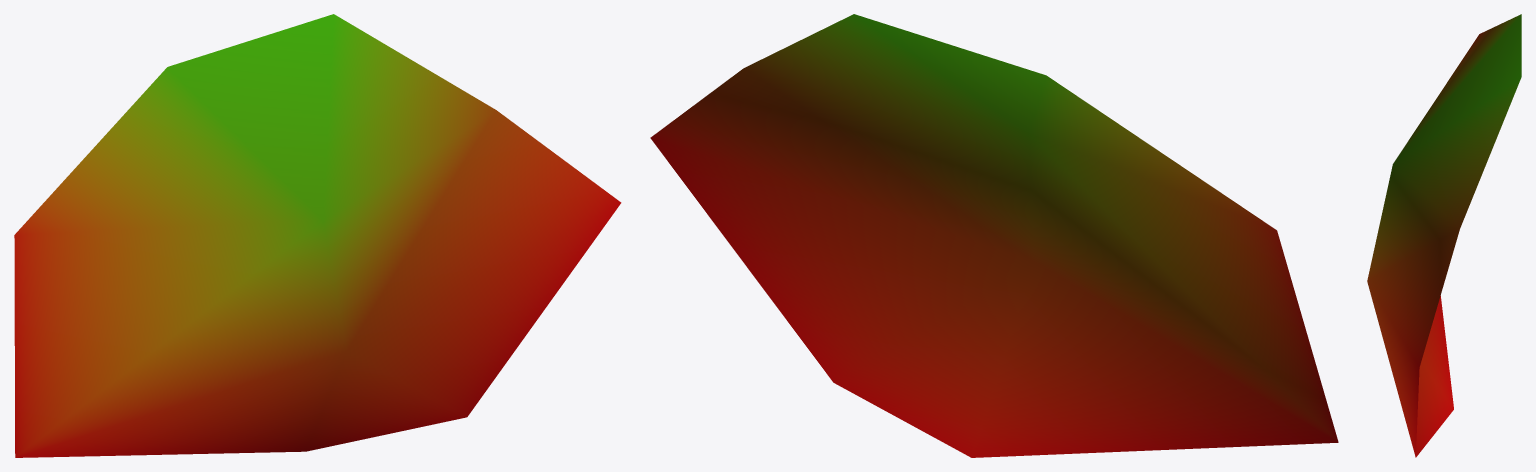
The model's file is Var14_LOD6.fbx.
The picture shows the model from 3 angles, left to right: view 1: azimuth 30°, elevation 25°; view 2: azimuth 150°, elevation 25°; view 3: azimuth 270°, elevation 25°; orthographic projection. The views are drawn at different scales.
Parts seen in each view (by area): view 1: _uvdk_Var14_LOD6; view 2: _uvdk_Var14_LOD6; view 3: _uvdk_Var14_LOD6.
Boxes of the visible parts, x1,y1,x2,y2 form: _uvdk_Var14_LOD6: [14, 14, 621, 457]; _uvdk_Var14_LOD6: [650, 14, 1338, 457]; _uvdk_Var14_LOD6: [1367, 14, 1521, 457].
Bounding box in the file's own units: 112 × 70.12 × 27.18.
